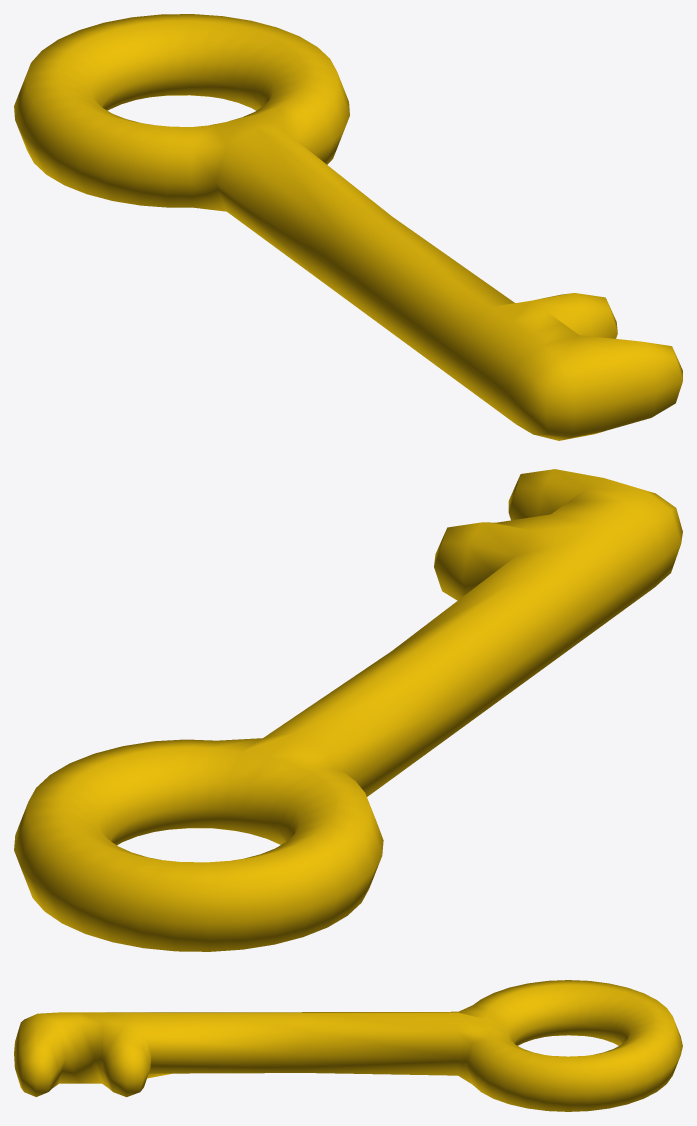
Rendered from Model_klucz.fbx.
3 renders of one model, top to bottom at view 1: azimuth 30°, elevation 25°; view 2: azimuth 150°, elevation 25°; view 3: azimuth 270°, elevation 25°, orthographic. The views are drawn at different scales.
Parts seen in each view (by area): view 1: Klucz; view 2: Klucz; view 3: Klucz.
Part boxes in pixels (x1,y1,x2,y2): Klucz: [14, 14, 682, 440]; Klucz: [14, 469, 682, 951]; Klucz: [14, 980, 682, 1111].
Size of the model in its own units: 292 by 29.29 by 100.
